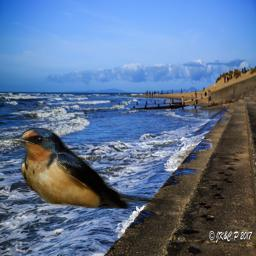Swallow: (12, 128, 176, 209)
